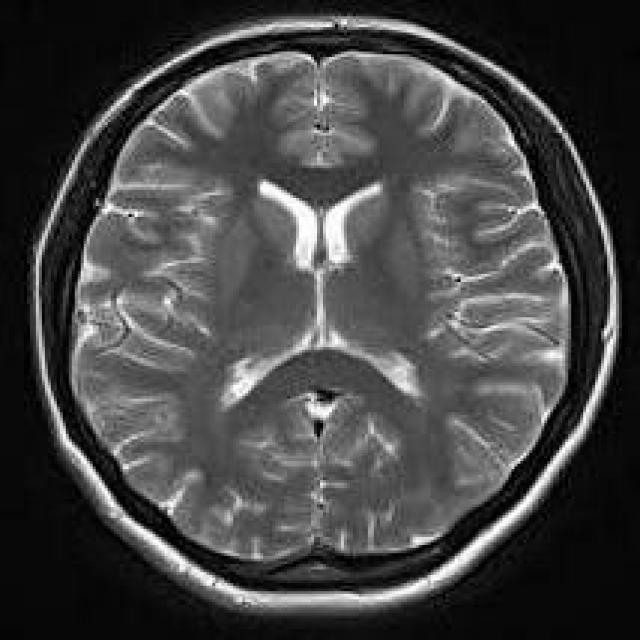notumor: (36, 22, 613, 607)
